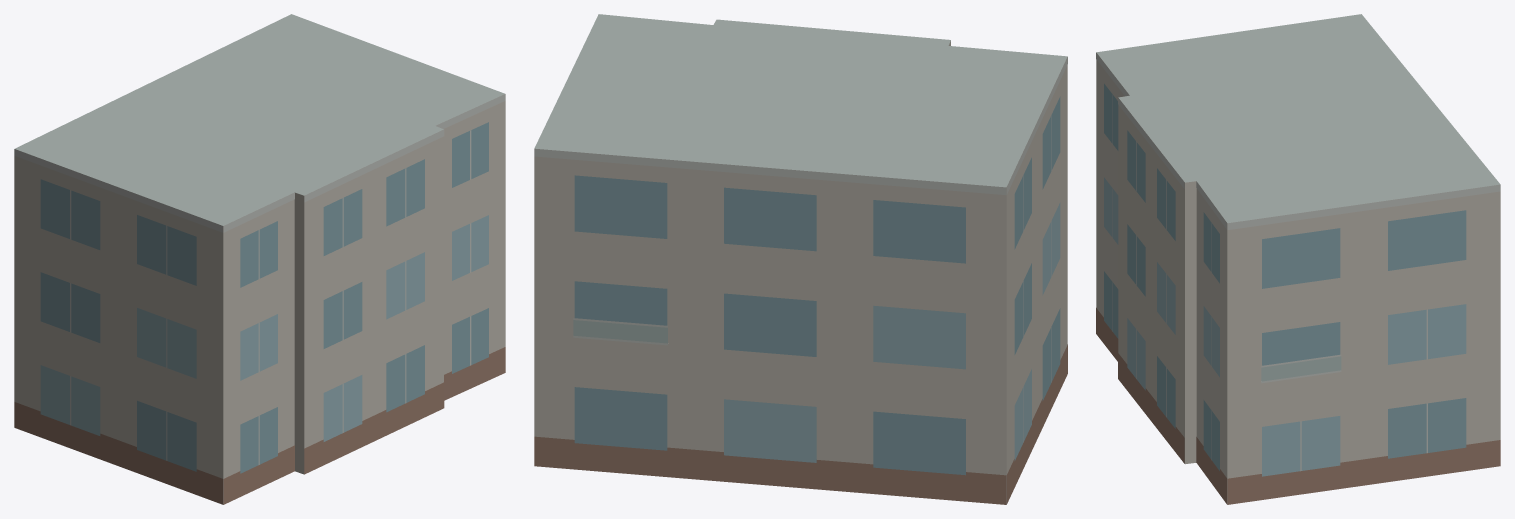
The model's file is survey-upis-32994018.glb.
3 views of the same model, side by side, from view 1: azimuth 30°, elevation 25°; view 2: azimuth 150°, elevation 25°; view 3: azimuth 270°, elevation 25° (orthographic). The views are drawn at different scales.
Visible parts, largest first — view 1: survey-upis-32994018.tmp; view 2: survey-upis-32994018.tmp; view 3: survey-upis-32994018.tmp.
Part boxes in pixels (bbox=[...]): survey-upis-32994018.tmp: bbox=[14, 14, 505, 504]; survey-upis-32994018.tmp: bbox=[534, 14, 1067, 504]; survey-upis-32994018.tmp: bbox=[1096, 14, 1500, 504].
Size of the model in its own units: 15.79 by 9.9 by 12.9.
